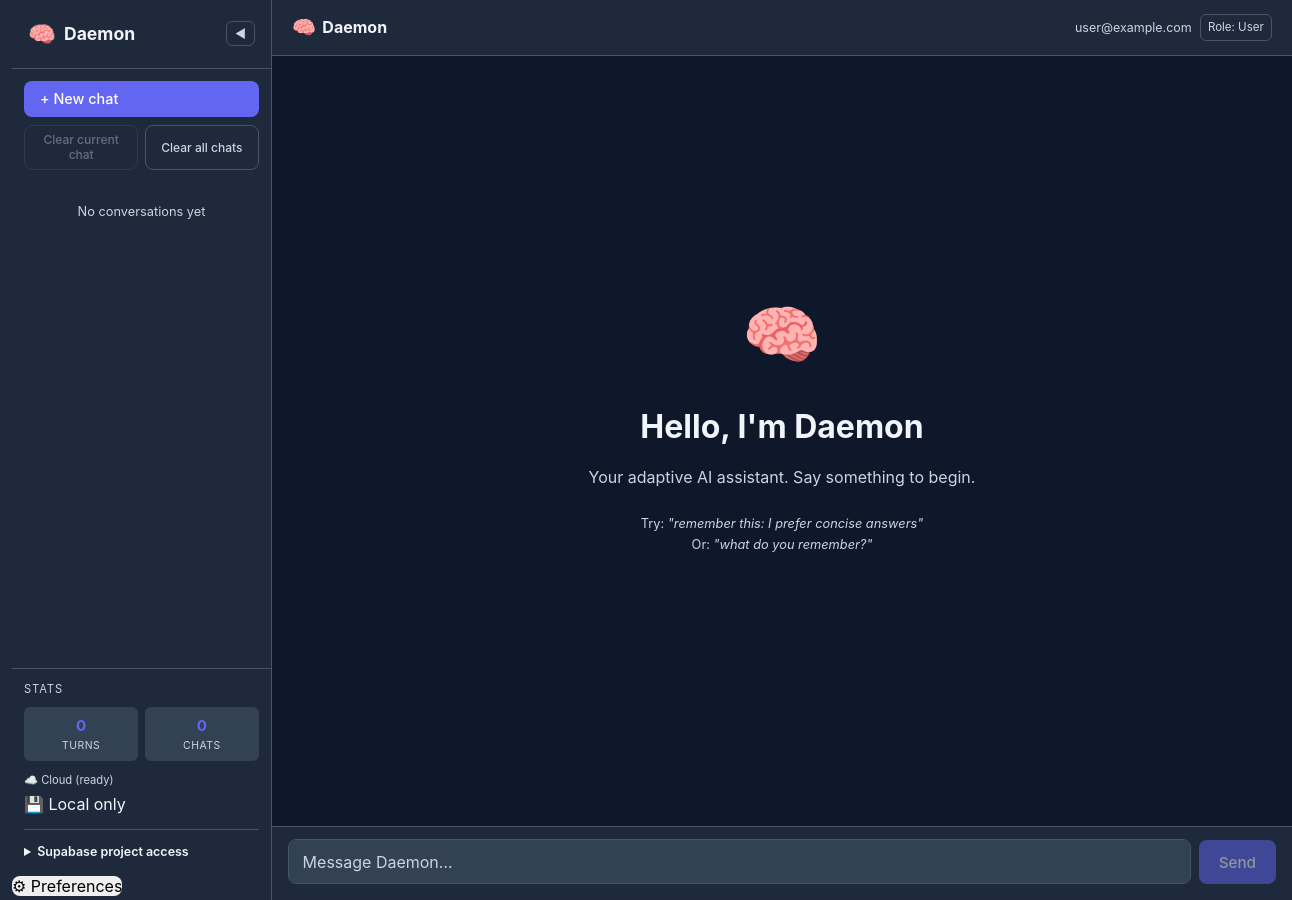
Test: DaemonInterface › keeps search-query discovery disabled without making a research request
In the text box with placeholder "Message Daemon…": (739, 862) [288, 839, 1191, 884], type "research: example source"
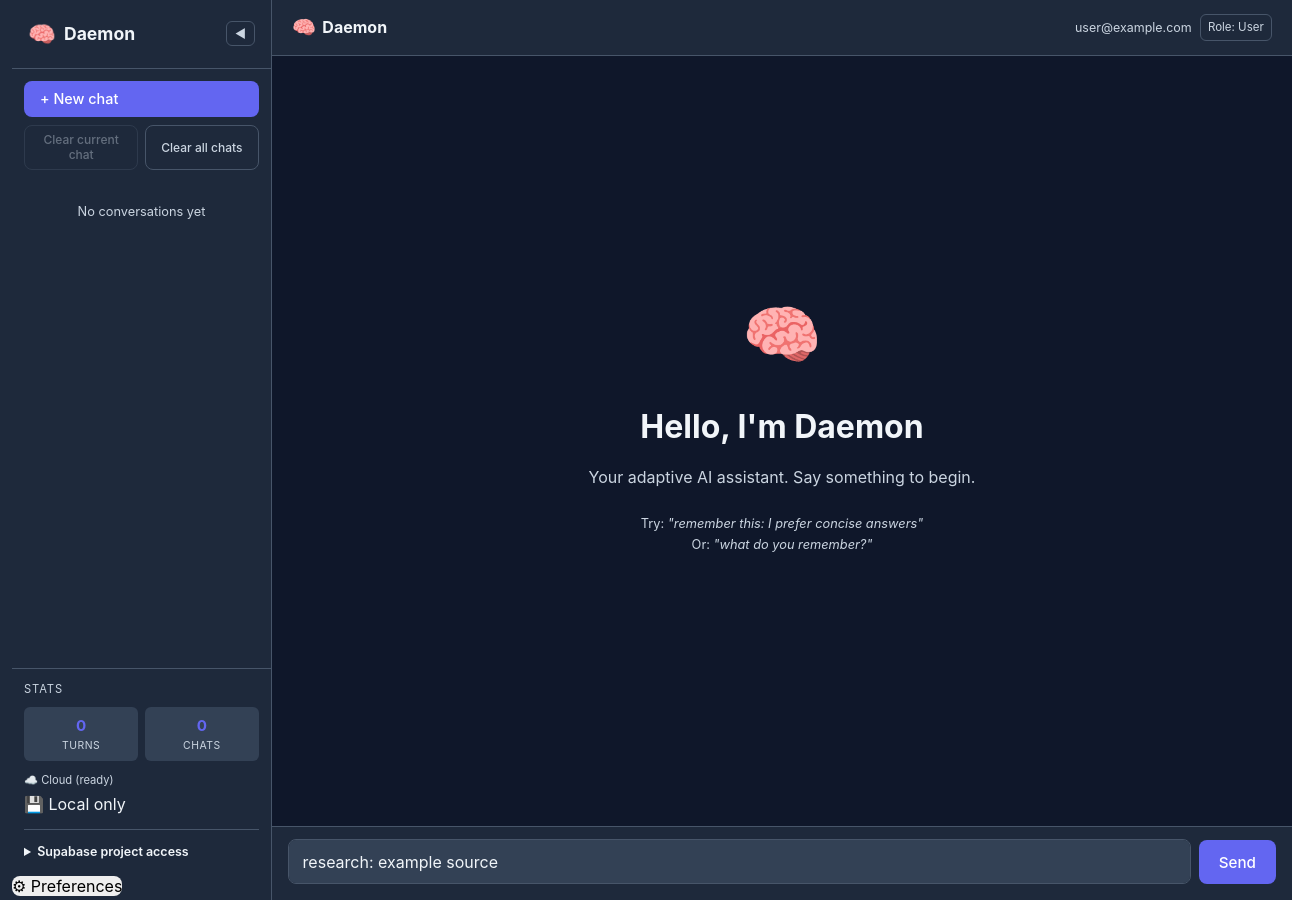
Click the button with aria-label "Send message": (1237, 862) [1199, 840, 1276, 884]
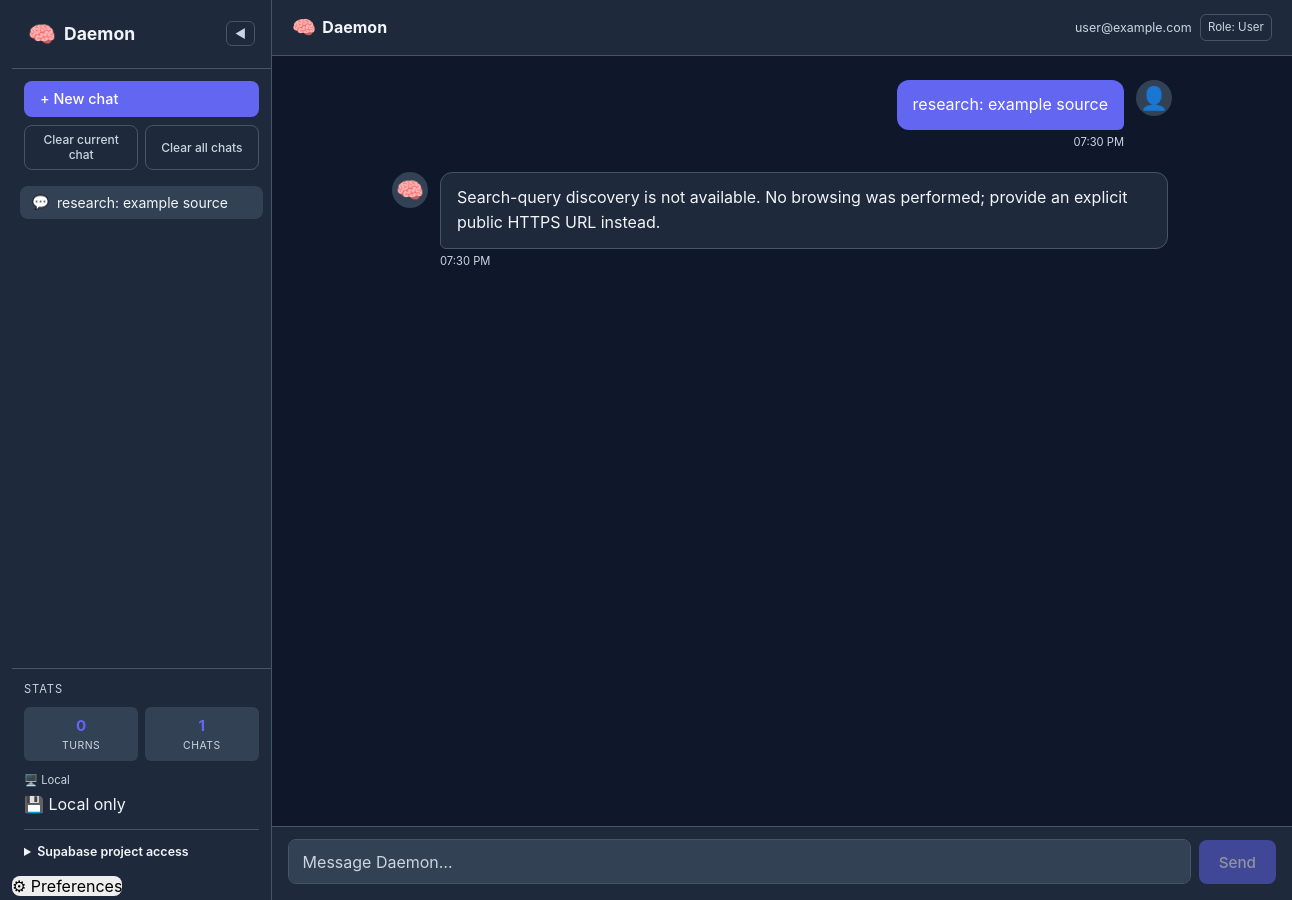
Result: the text "No browsing was performed" is shown at [457, 186, 1132, 232]
